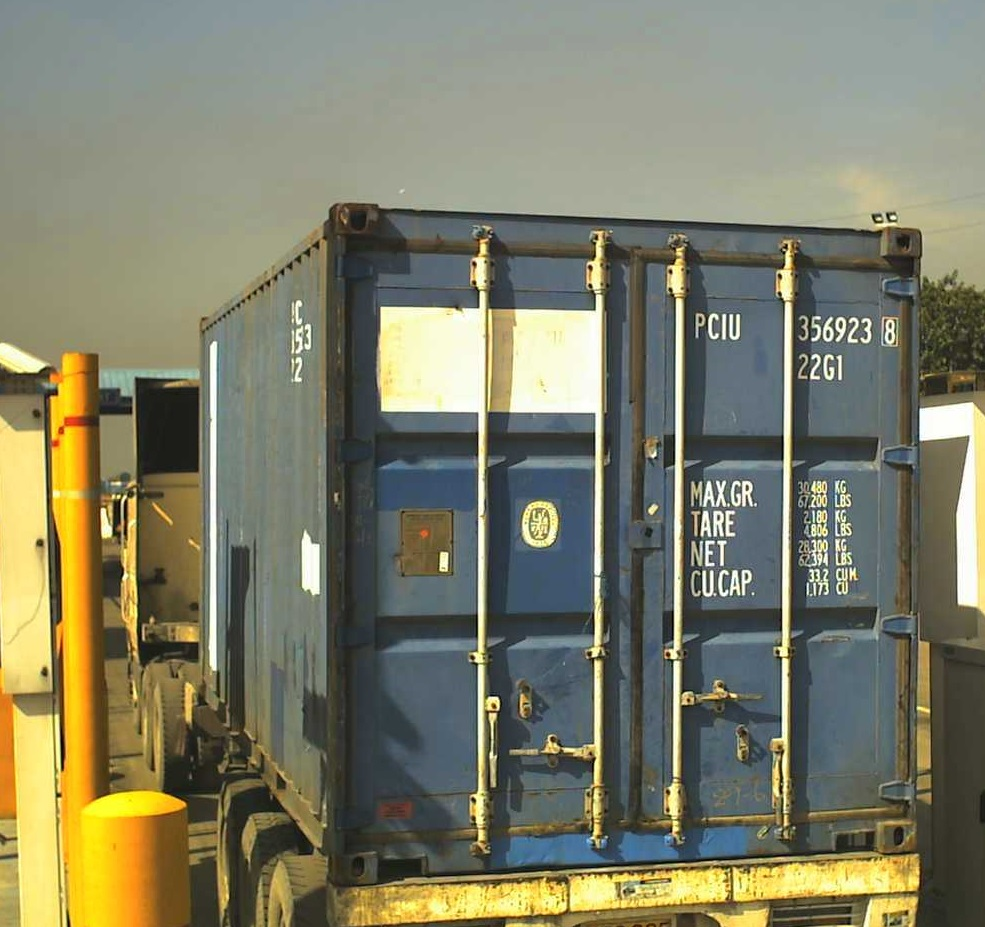container_door: (341, 202, 918, 870)
